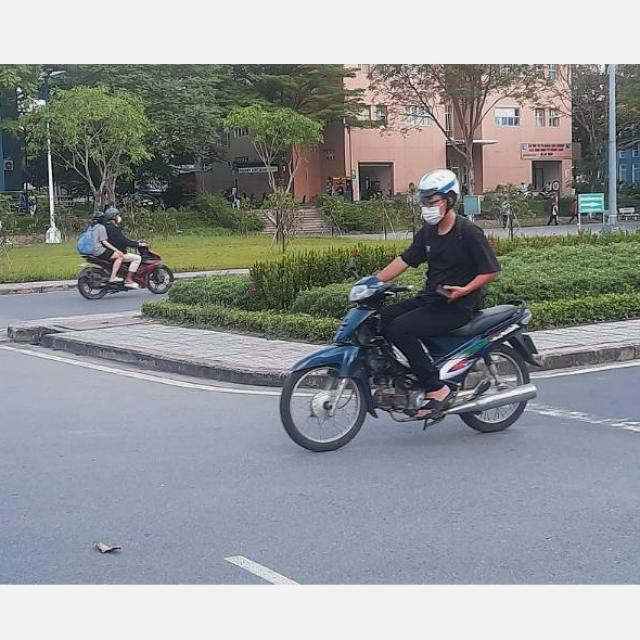Helmet: (414, 171, 464, 226)
